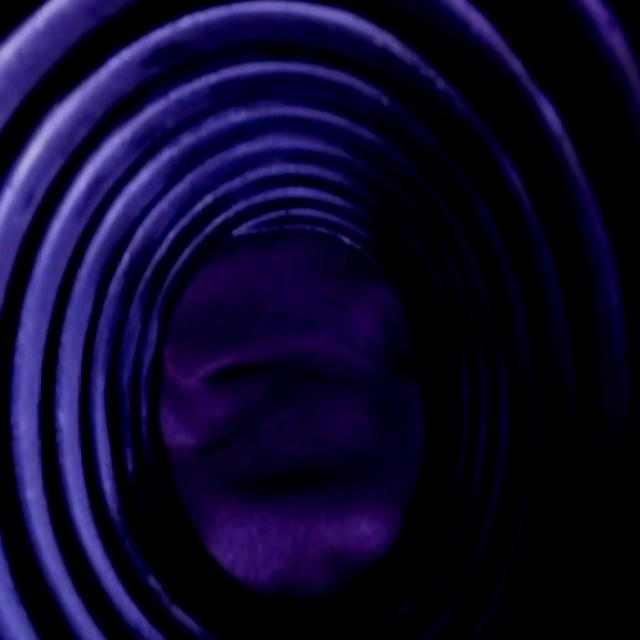block: (158, 223, 428, 599)
